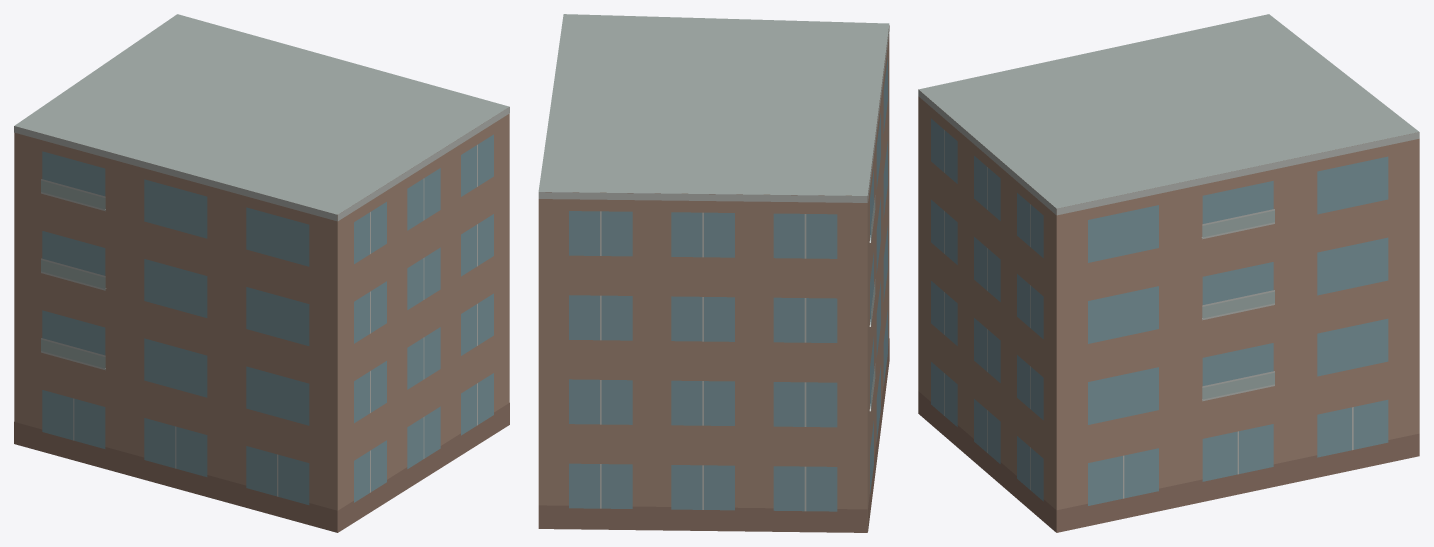
File: survey-upis-32658711.glb
3 renders of one model, left to right at view 1: azimuth 30°, elevation 25°; view 2: azimuth 150°, elevation 25°; view 3: azimuth 270°, elevation 25°, orthographic. The views are drawn at different scales.
Visible parts, largest first — view 1: survey-upis-32658711.tmp; view 2: survey-upis-32658711.tmp; view 3: survey-upis-32658711.tmp.
Part boxes in pixels (box(x1,y1,x2,y2)): survey-upis-32658711.tmp: box(14, 14, 509, 532); survey-upis-32658711.tmp: box(538, 14, 889, 532); survey-upis-32658711.tmp: box(918, 14, 1419, 532).
Size of the model in its own units: 15.08 by 11.7 by 16.4.
